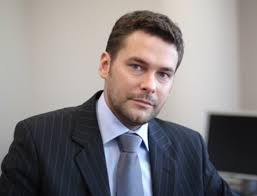white_male: (103, 36, 188, 137)
